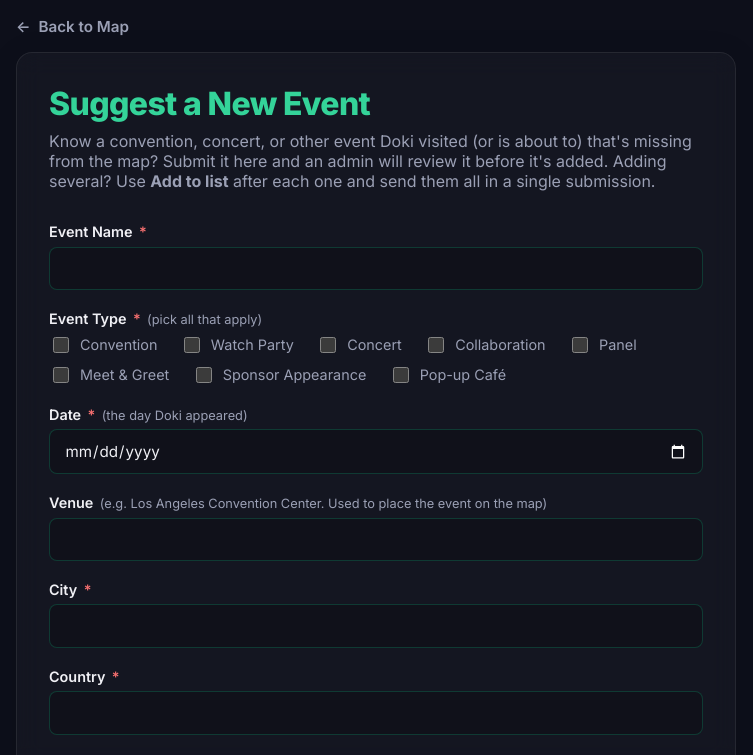
Test: AddEvent › removes a queued entry with its remove button
Check: the heading "Suggest a New Event" is shown, box [49,85,703,123]
Type "Con A" into the field labelled "Event Name *".
click(376, 268); type("Con A")  # box [49,247,703,290]
Click the checkbox labelled "Convention".
click(61, 344)  # box [53,336,69,352]
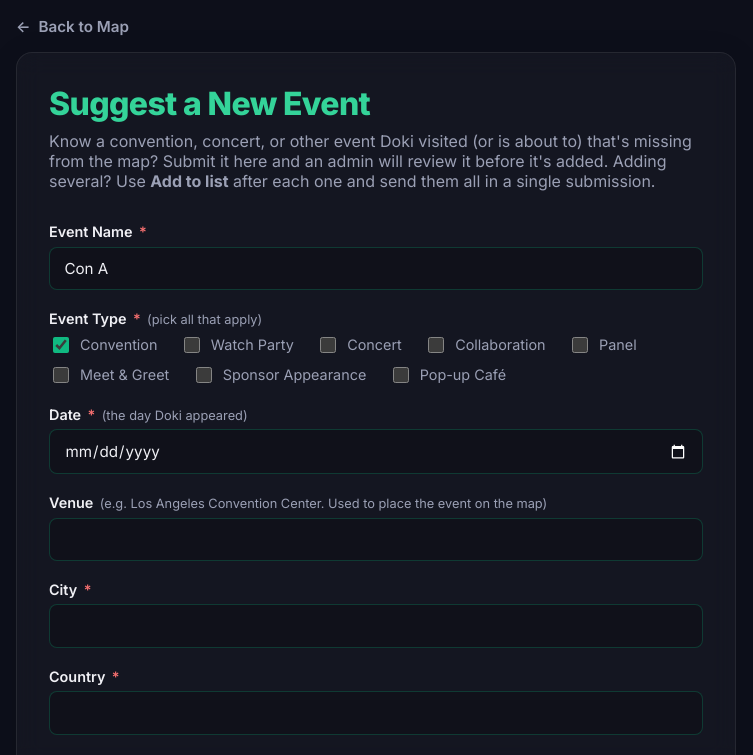
Type "2027-03-15" into the date field labelled "Date * (the day Doki appeared)".
click(376, 452); type("2027-03-15")  # box [49,429,703,474]
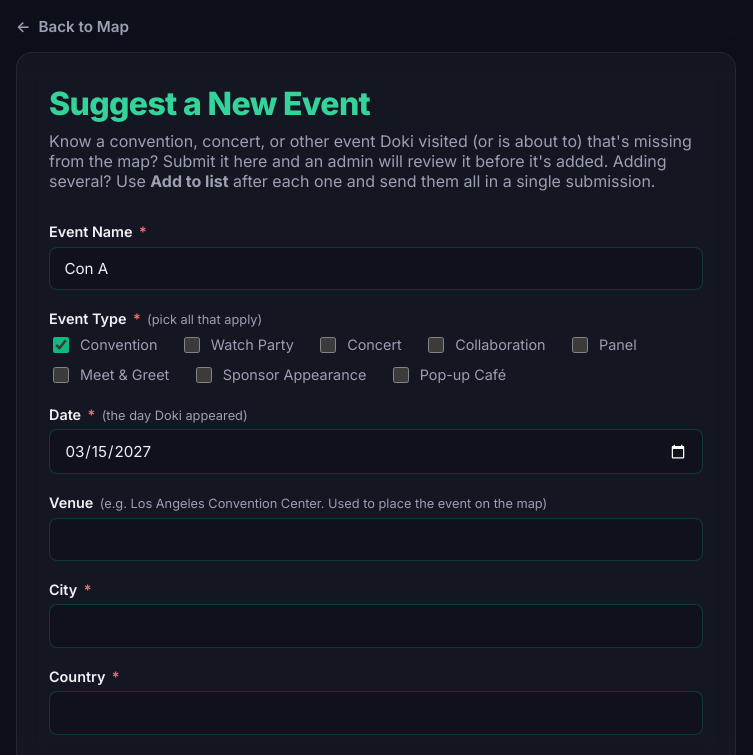
Type "Tokyo" into the field labelled "City *".
click(376, 626); type("Tokyo")  # box [49,604,703,648]
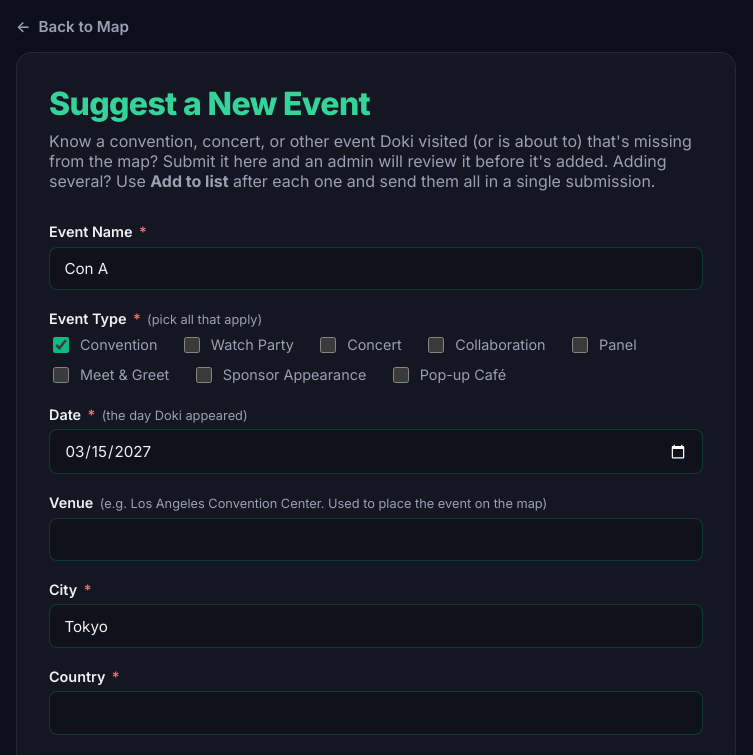
Type "Japan" into the field labelled "Country *".
click(376, 713); type("Japan")  # box [49,691,703,735]
(page scrolled)
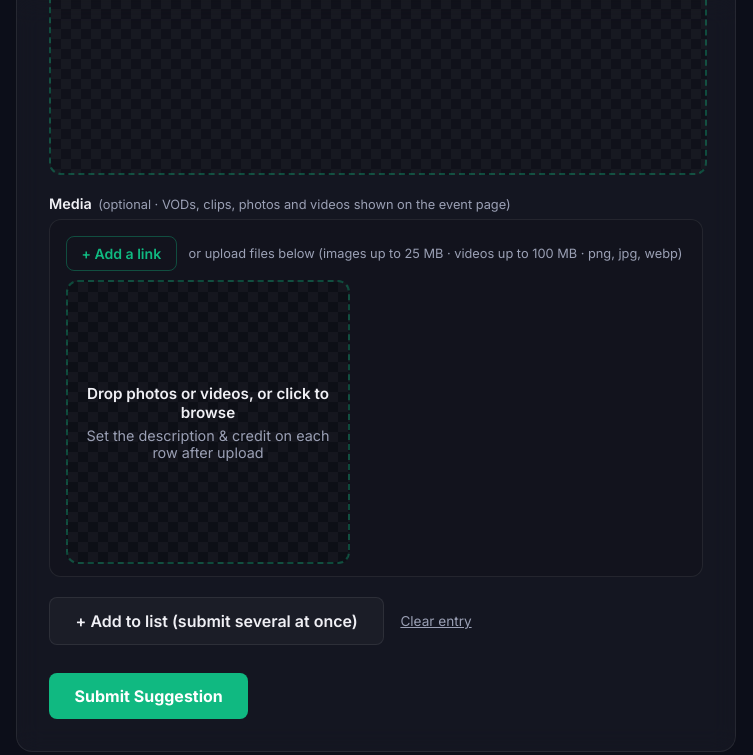
Click the button "+ Add to list (submit several at once)".
click(217, 621)  # box [49,597,384,645]
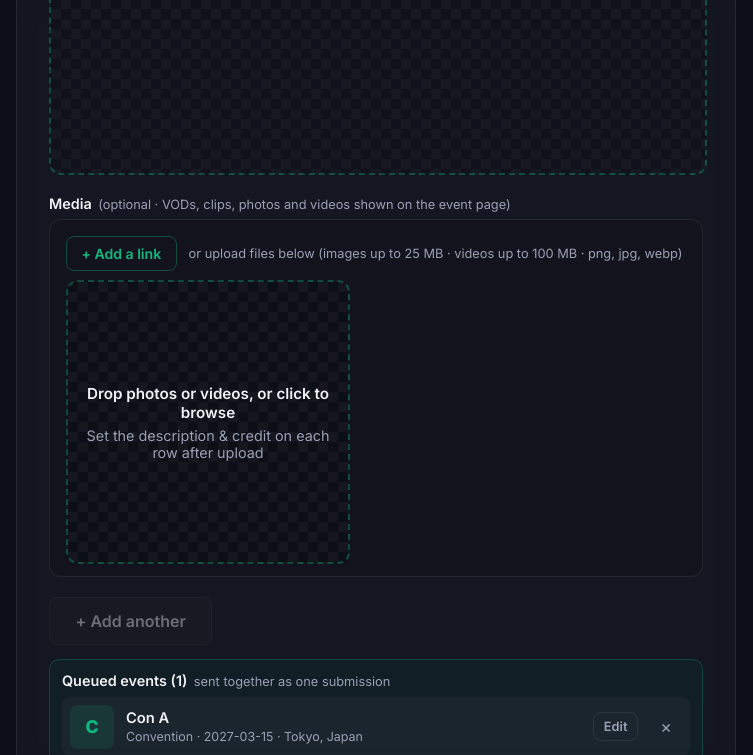
Click the button named "Remove Con A".
click(666, 726)  # box [650,710,682,742]
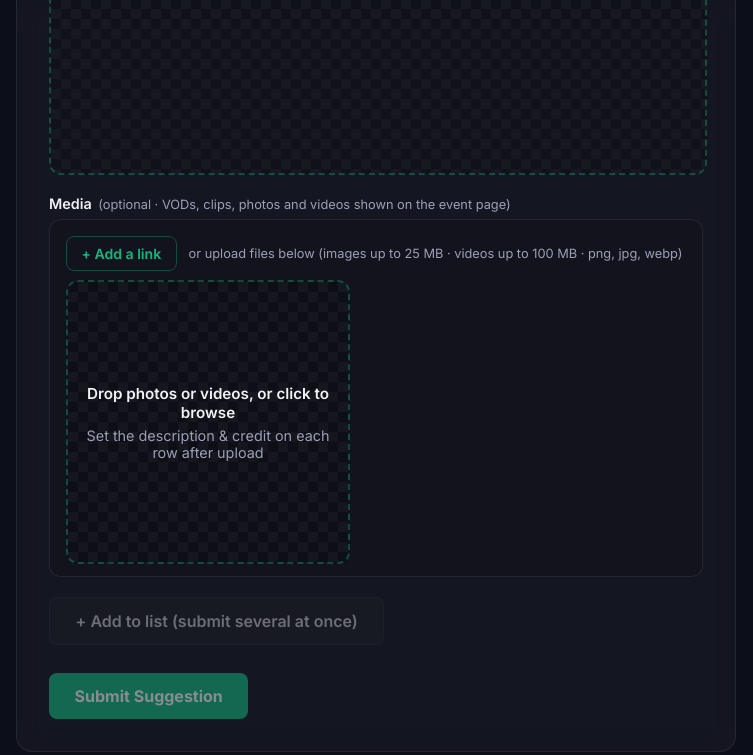
Check: the text "Queued events" is gone
Check: the button "Submit Suggestion" is disabled, box [49,673,248,719]
